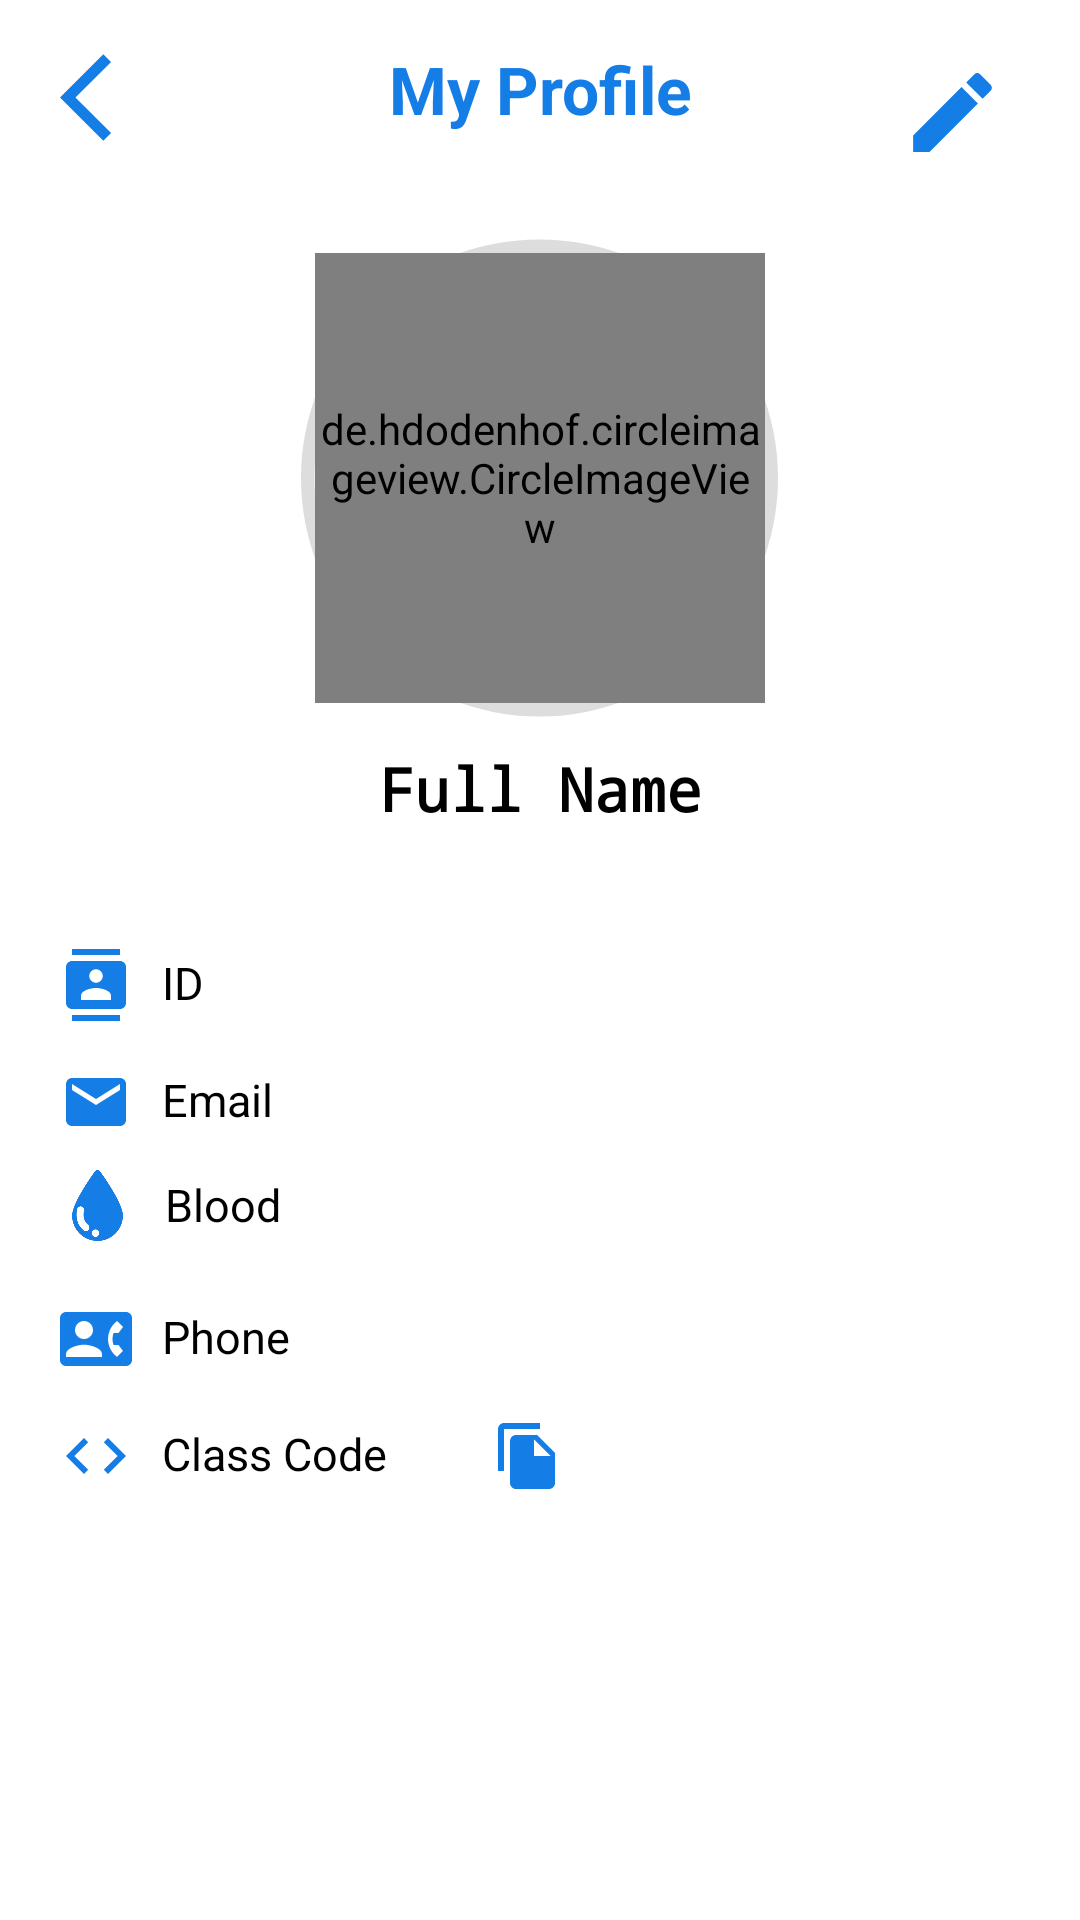

Icons on this 1080×1920 Android screen, each with its box as BBox(x1, y1, x2, y2):
back: BBox(60, 54, 111, 141)
edit: BBox(913, 73, 992, 152)
